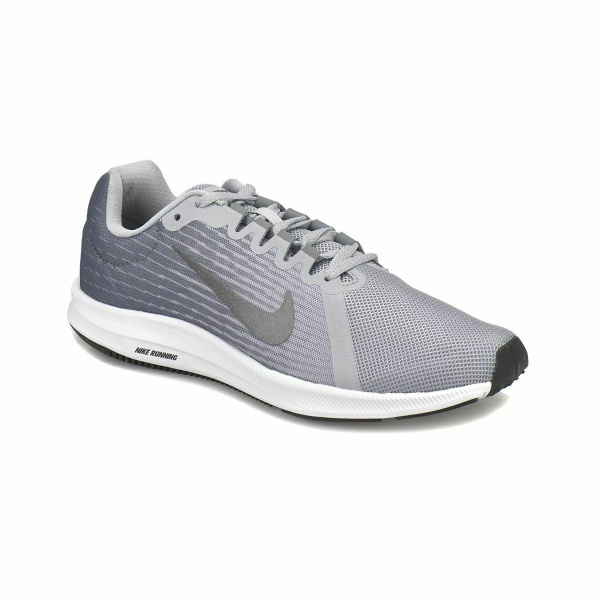nike: (170, 245, 301, 355)
